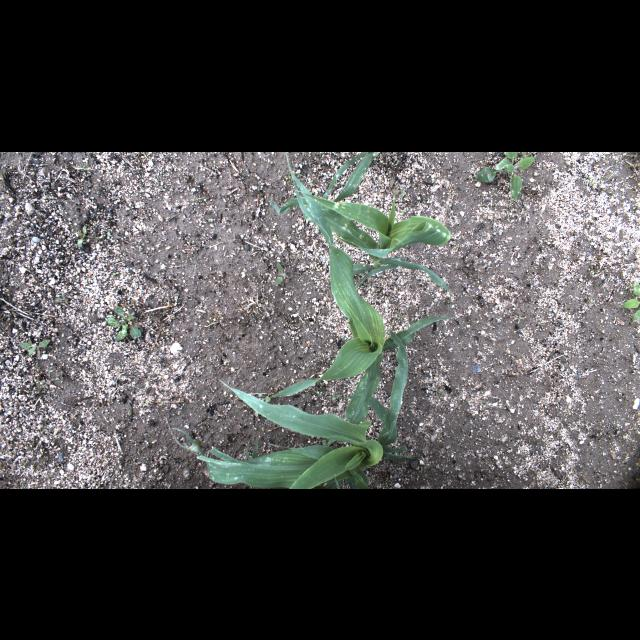crop: (266, 152, 458, 426), (164, 328, 423, 488), (272, 188, 452, 318), (324, 151, 381, 203)
weed: (476, 151, 536, 203), (105, 303, 141, 342), (621, 280, 639, 322), (18, 338, 52, 357), (74, 224, 96, 246), (275, 261, 287, 285), (385, 178, 399, 195), (55, 290, 69, 304), (330, 394, 340, 404), (518, 312, 524, 326), (258, 394, 270, 401), (50, 376, 62, 382), (436, 384, 442, 394), (588, 296, 594, 304), (400, 207, 406, 215), (2, 182, 8, 190), (399, 188, 405, 196), (106, 230, 110, 240), (112, 271, 118, 275), (336, 181, 340, 187), (128, 410, 132, 414)
